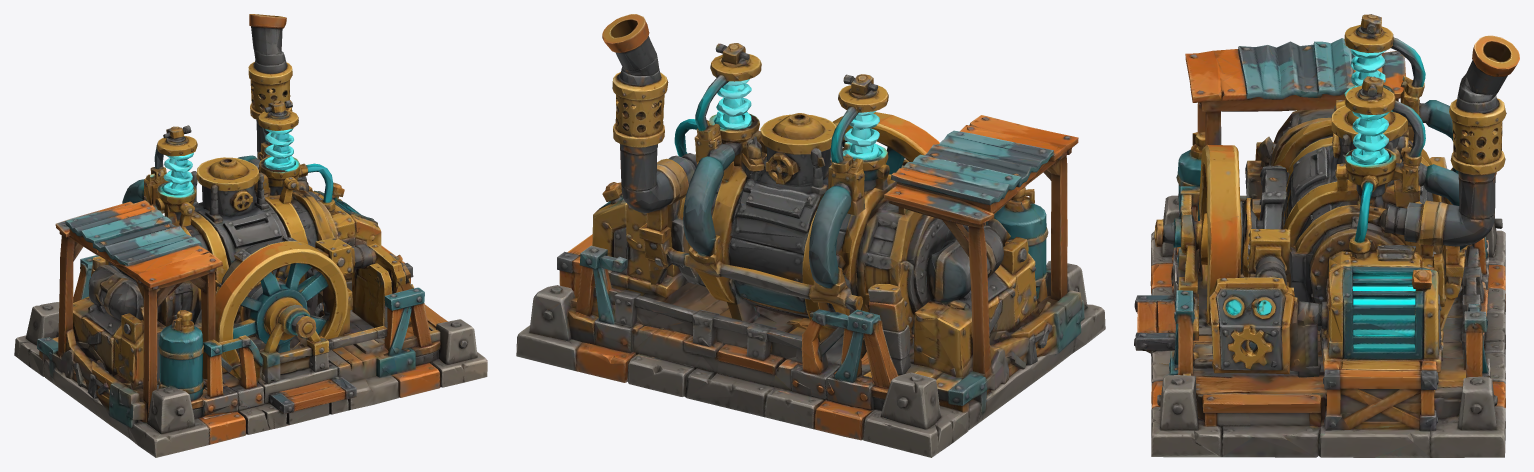
File: building_generator.glb
3 renders of one model, left to right at view 1: azimuth 30°, elevation 25°; view 2: azimuth 150°, elevation 25°; view 3: azimuth 270°, elevation 25°, orthographic. The views are drawn at different scales.
Visible parts, largest first — view 1: output_unwrapped; view 2: output_unwrapped; view 3: output_unwrapped.
Boxes of the visible parts, bbox=[...] form: output_unwrapped: bbox=[14, 14, 487, 457]; output_unwrapped: bbox=[516, 14, 1105, 457]; output_unwrapped: bbox=[1134, 14, 1519, 457].
Size of the model in its own units: 1.88 by 1.53 by 1.47.
1 material, 1 textured.
